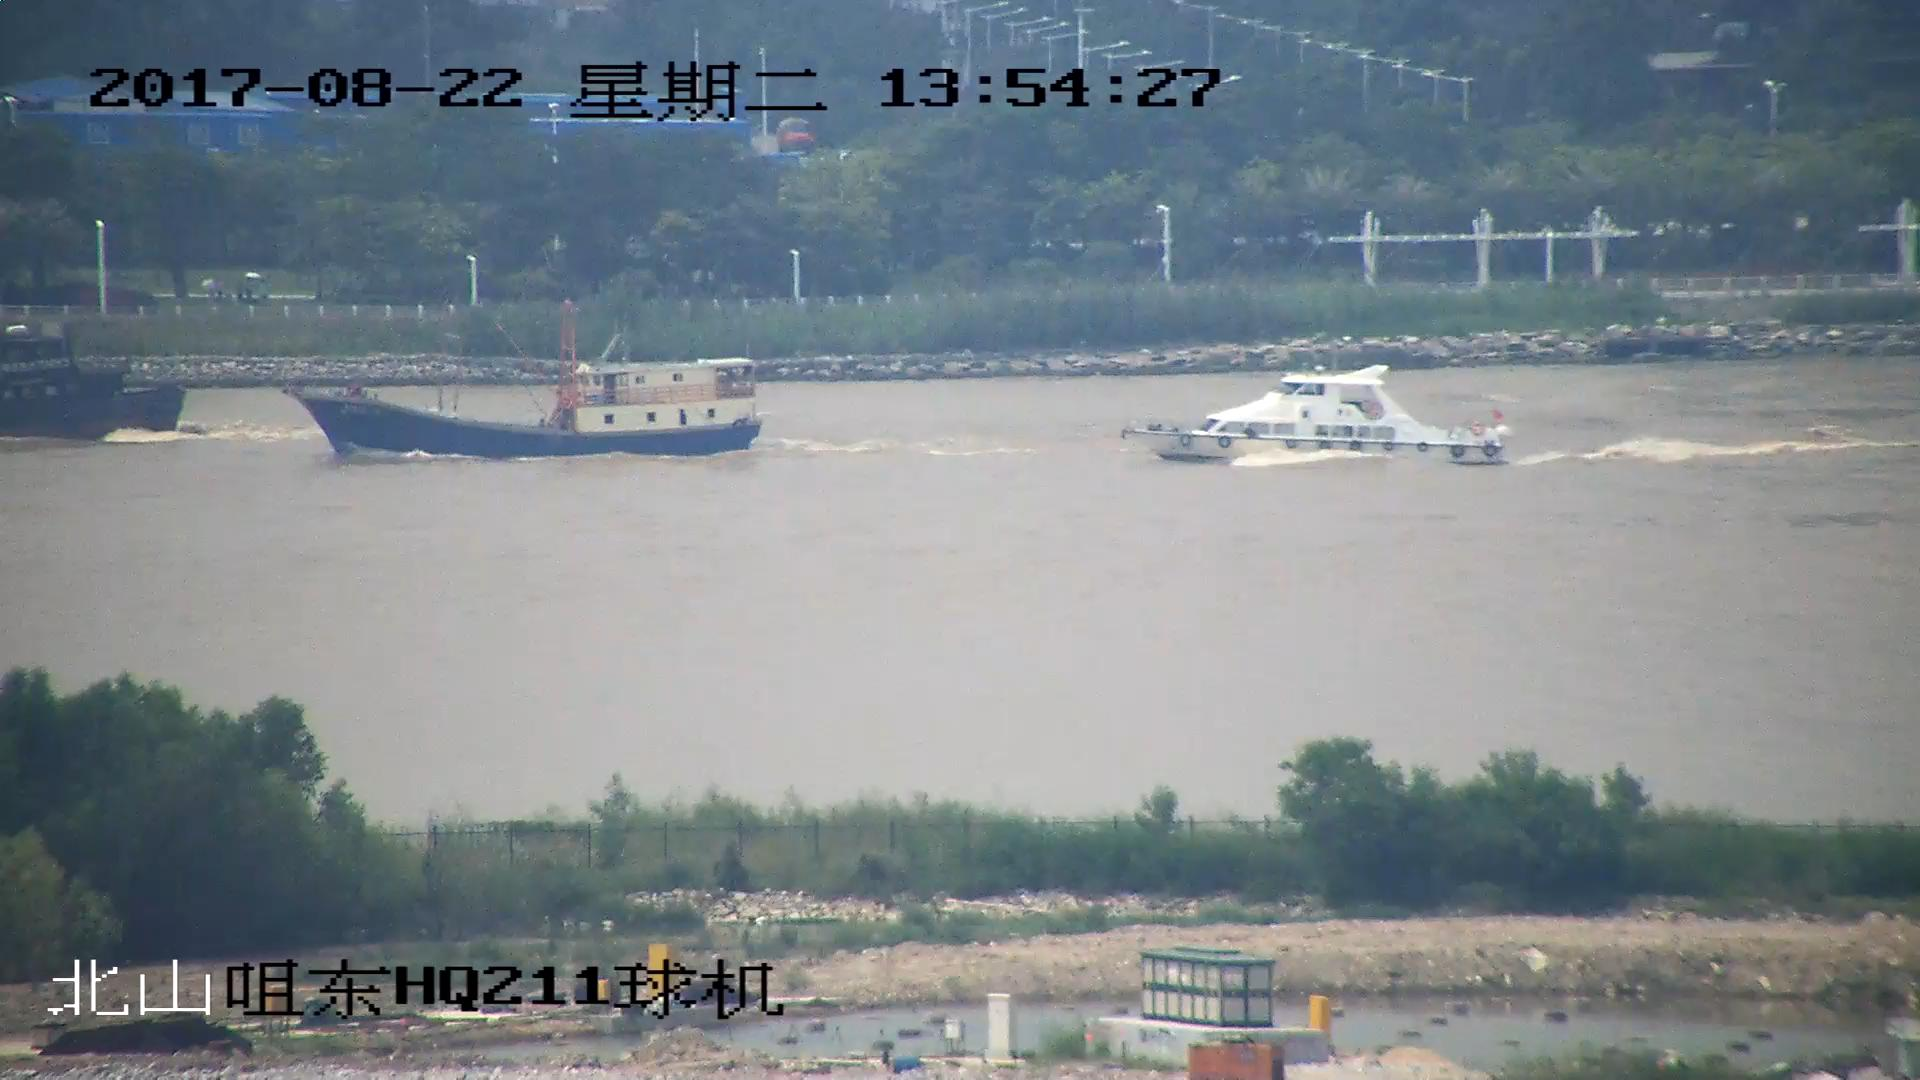fishing boat: (286, 309, 764, 457), (1, 321, 188, 441)
passenger ship: (1122, 367, 1504, 467)
